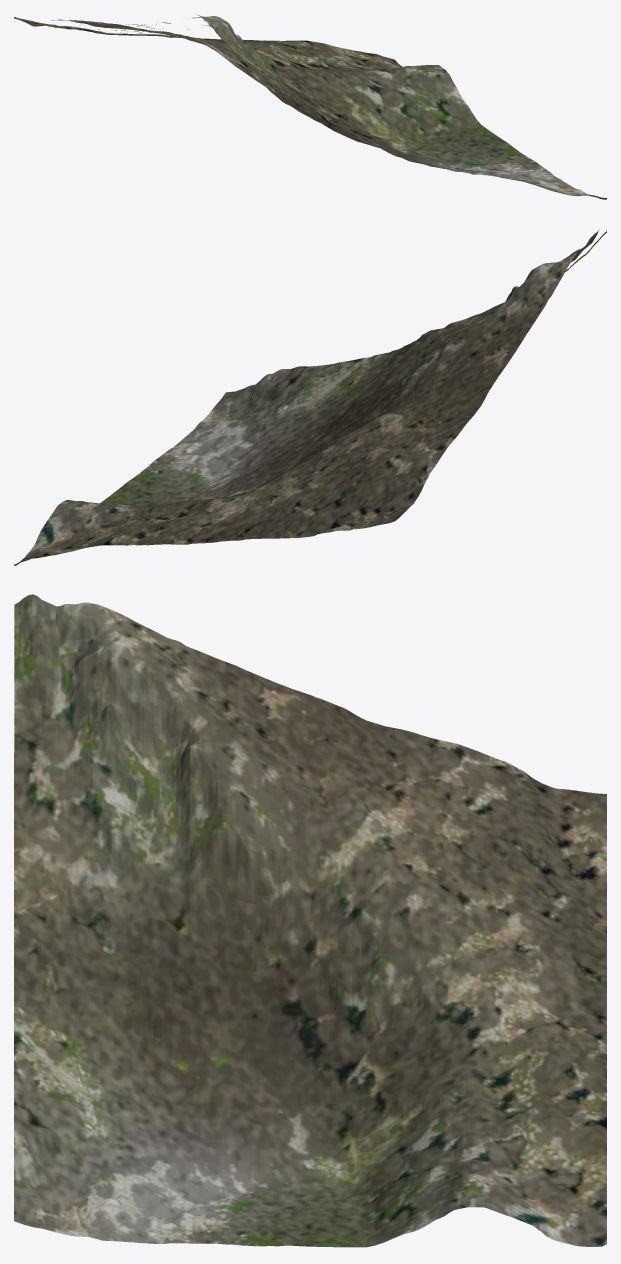
3 renders of one model, top to bottom at view 1: azimuth 30°, elevation 25°; view 2: azimuth 150°, elevation 25°; view 3: azimuth 270°, elevation 25°, orthographic. The views are drawn at different scales.
Bounding box in the file's own units: 250 × 177 × 241.
Materials: 1 (1 with a texture image).
